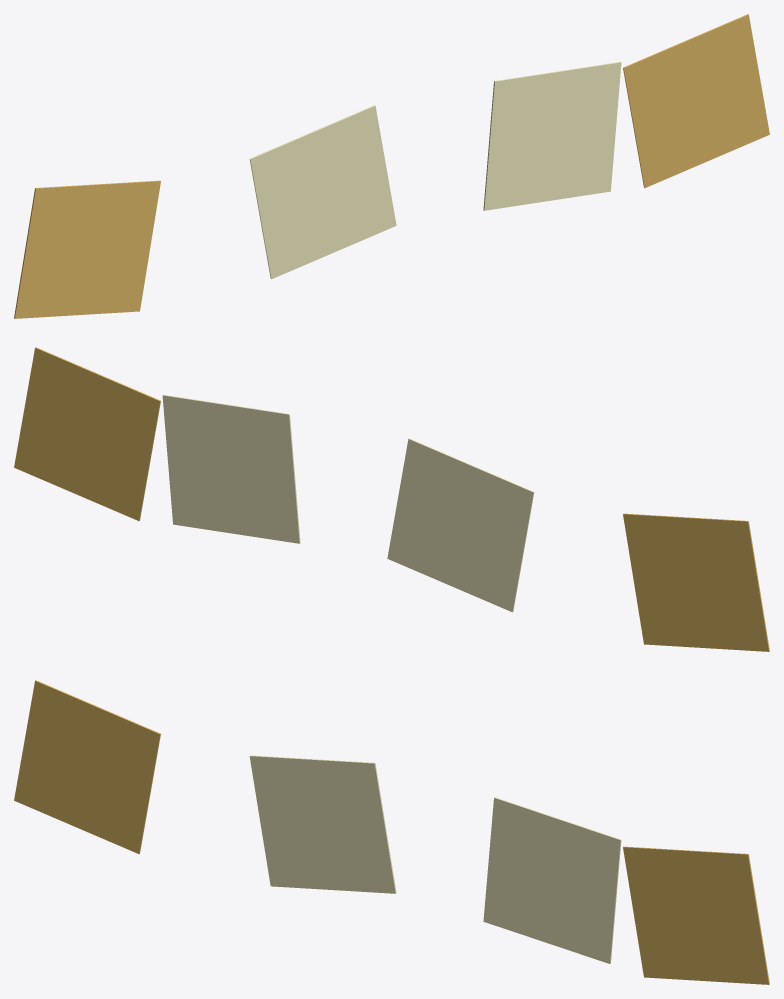
Rendered from post-it.FBX.
3 views of the same model, one above another, from view 1: azimuth 30°, elevation 25°; view 2: azimuth 150°, elevation 25°; view 3: azimuth 330°, elevation 25° (orthographic).
Parts seen in each view (by area): view 1: Post-it3, Post-it1, Post-it2, Post-it4; view 2: Post-it3, Post-it1, Post-it2, Post-it4; view 3: Post-it3, Post-it2, Post-it4, Post-it1.
Boxes of the visible parts, box(x1,y1,x2,y2) form: Post-it3: box(483, 61, 621, 210); Post-it1: box(14, 180, 160, 318); Post-it2: box(249, 105, 396, 279); Post-it4: box(623, 14, 769, 187); Post-it3: box(162, 394, 300, 543); Post-it1: box(623, 513, 769, 651); Post-it2: box(387, 438, 534, 612); Post-it4: box(14, 347, 160, 520); Post-it3: box(483, 797, 621, 963); Post-it2: box(249, 755, 396, 893); Post-it4: box(623, 846, 769, 984); Post-it1: box(14, 680, 160, 853).
Size of the model in its own units: 69.43 by 13.02 by 0.1377.
Materials: 1 (1 with a texture image).
